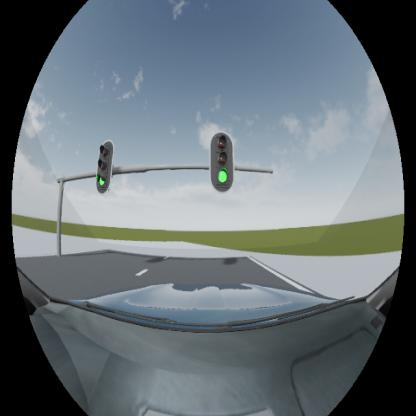Green Light: (211, 131, 234, 192)
